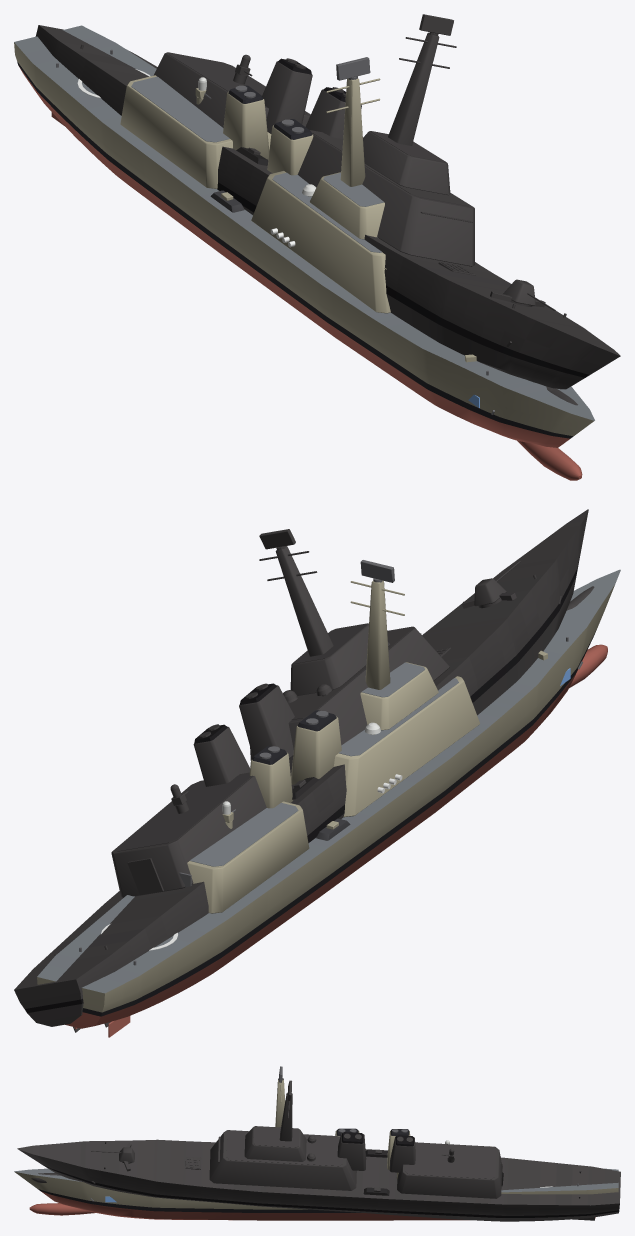
Rendered from asFrigate__daegu_class.glb.
The picture shows the model from 3 angles, top to bottom: view 1: azimuth 30°, elevation 25°; view 2: azimuth 150°, elevation 25°; view 3: azimuth 270°, elevation 25°; orthographic projection. The views are drawn at different scales.
Visible parts, largest first — view 1: Hull_Mesh, Wreck; view 2: Hull_Mesh, Wreck; view 3: Wreck, Hull_Mesh.
Part boxes in pixels (bbox=[...]): Hull_Mesh: bbox=[14, 25, 594, 480]; Wreck: bbox=[35, 14, 620, 405]; Hull_Mesh: bbox=[37, 569, 620, 1037]; Wreck: bbox=[14, 509, 594, 1032]; Wreck: bbox=[17, 1080, 620, 1221]; Hull_Mesh: bbox=[14, 1079, 618, 1220].
Size of what is drawn, in the model's own units: 21.83 by 36.47 by 128.
